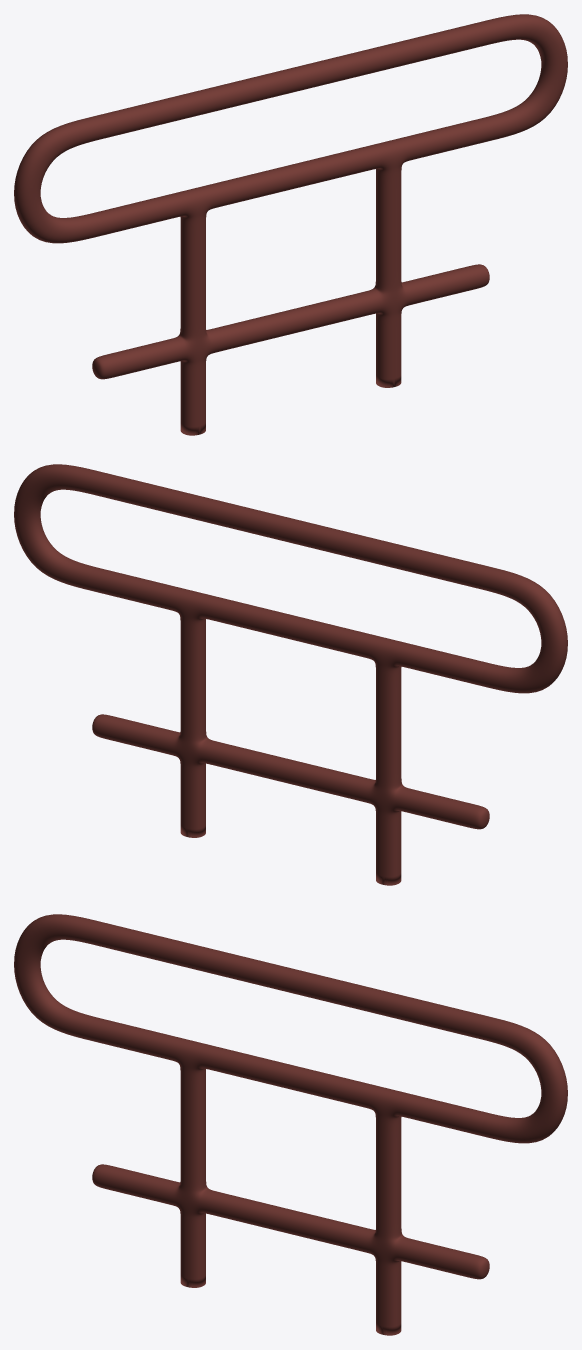
The model's file is fence.fbx.
3 renders of one model, top to bottom at view 1: azimuth 30°, elevation 25°; view 2: azimuth 150°, elevation 25°; view 3: azimuth 330°, elevation 25°, orthographic.
Parts seen in each view (by area): view 1: fence middle, fence start, fence end; view 2: fence middle, fence start, fence end; view 3: fence middle, fence end, fence start.
Part boxes in pixels (<box>): fence middle: <box>92,21,493,435</box>; fence start: <box>14,117,99,243</box>; fence end: <box>485,14,567,140</box>; fence middle: <box>88,471,489,885</box>; fence start: <box>482,567,567,693</box>; fence end: <box>14,464,96,590</box>; fence middle: <box>88,921,489,1335</box>; fence end: <box>482,1017,567,1143</box>; fence start: <box>14,914,96,1040</box>.
Size of the model in its own units: 621 by 363 by 24.76.
